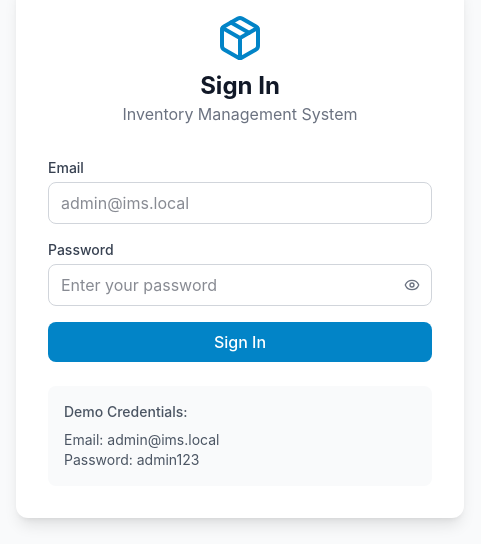
Test: LoginPage › shows loading state when submitting
In the field labelled "Email": {"x": 240, "y": 203} left=48, top=182, right=432, bottom=224, type "test@example.com"
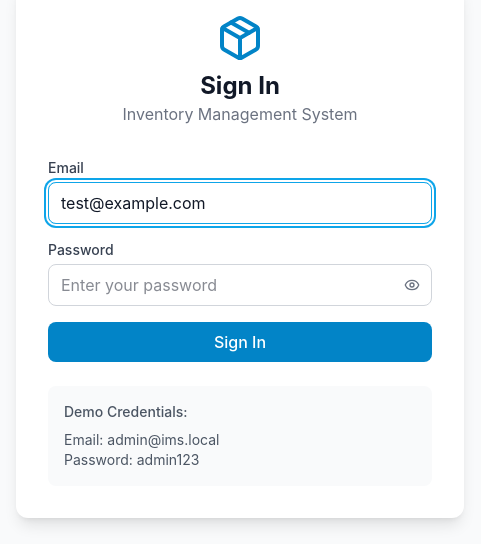
In the password field labelled "Password": {"x": 240, "y": 285} left=48, top=264, right=432, bottom=306, type "password123"
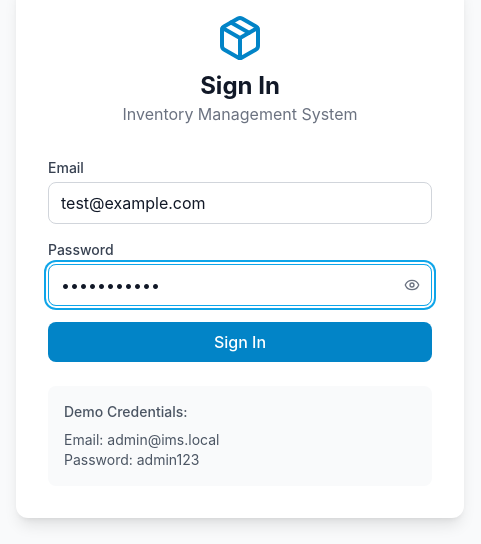
Click the button "Sign In": {"x": 240, "y": 342} left=48, top=322, right=432, bottom=362
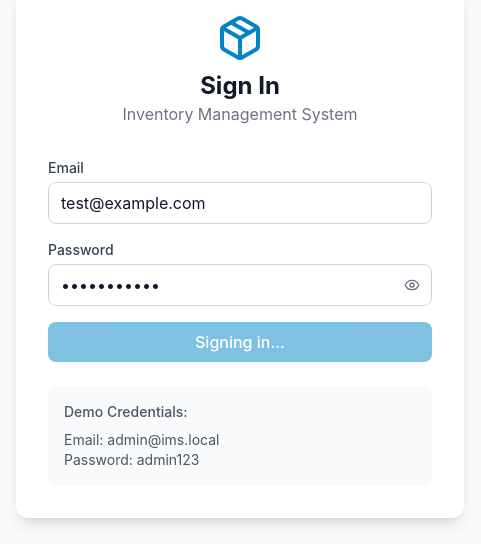
Now the button named "sign in" is disabled, box left=48, top=322, right=432, bottom=362
Now the button named "sign in" shows "Signing in", box left=48, top=322, right=432, bottom=362
